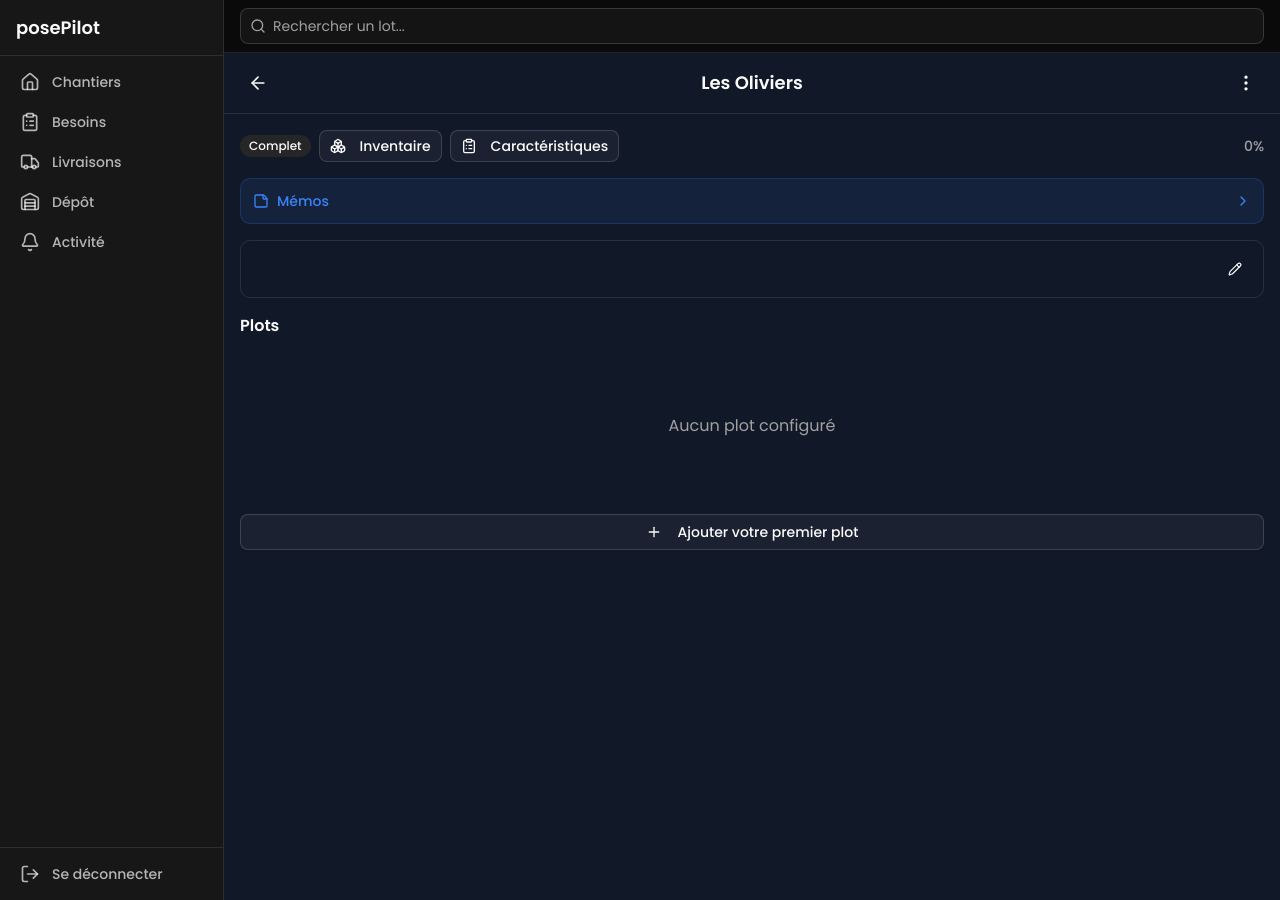
it: ChantierIndexPage — Sheet creation › shows validation error when submitting empty name
Expected: the text "Aucun plot configuré" is shown, [668,414,835,438]
Click the button "Ajouter votre premier plot": (752, 532) [240,514,1264,550]
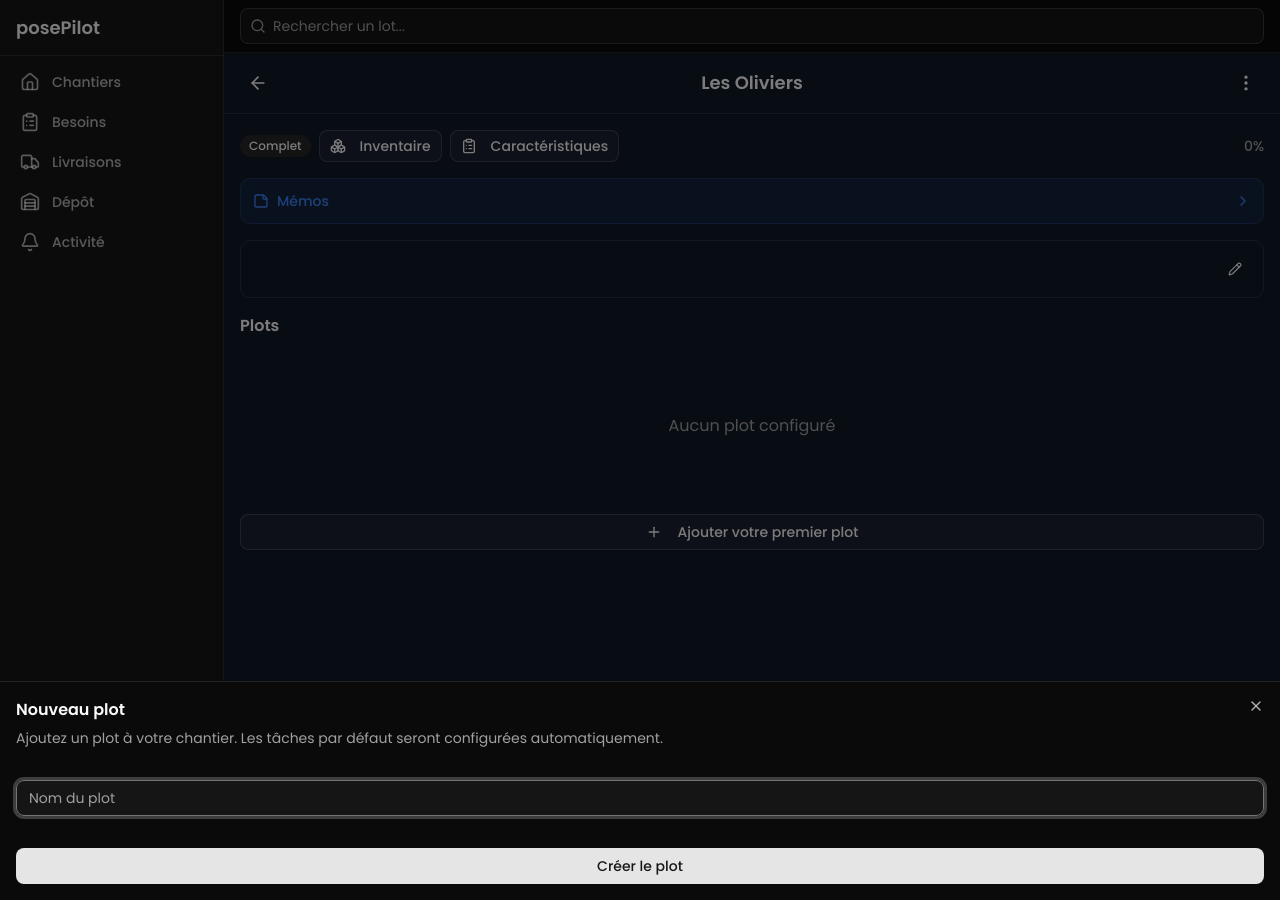
Expected: the heading "Nouveau plot" is shown, [16,698,125,721]
Click the button "Créer le plot": (640, 866) [16,848,1264,884]
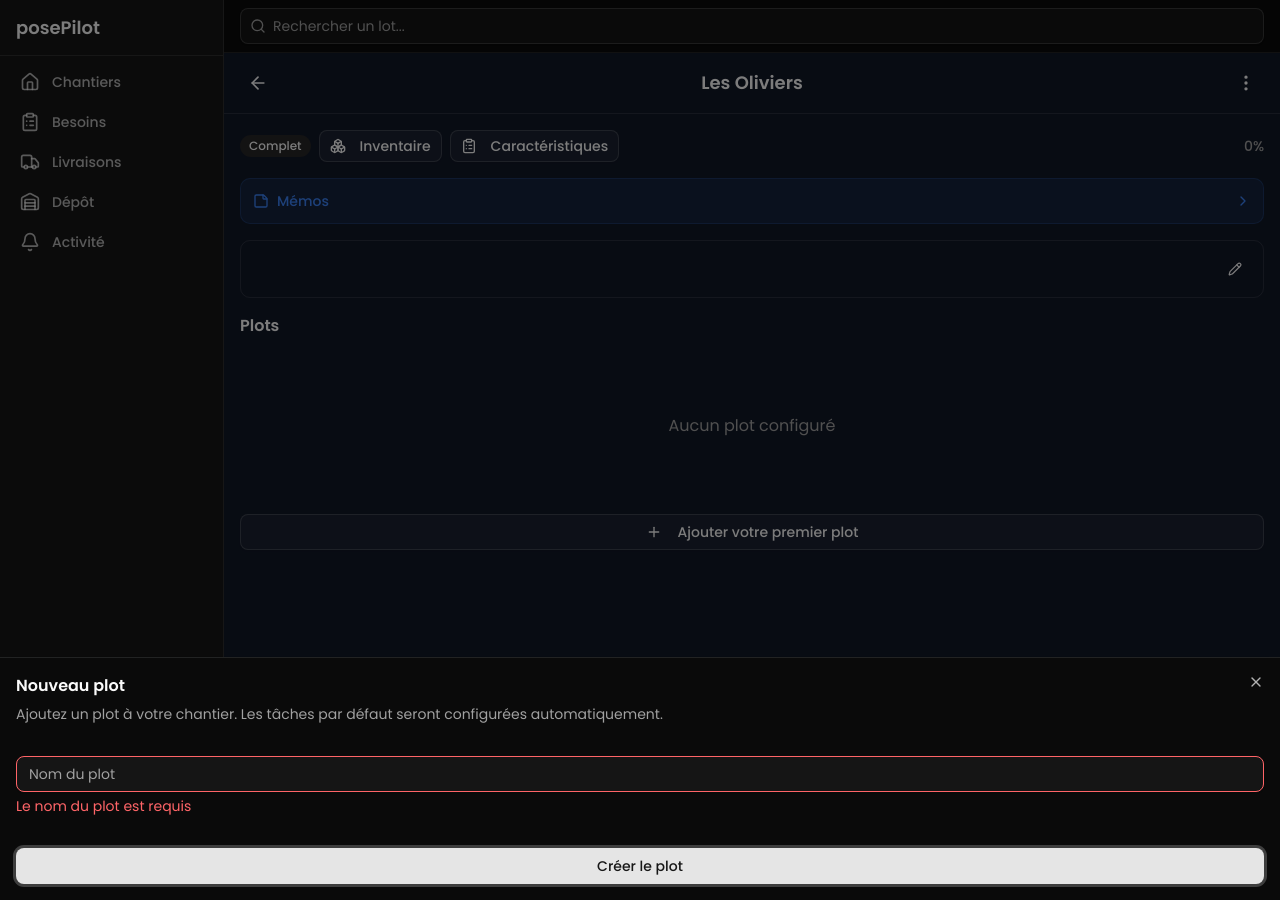
Expected: the text "Le nom du plot est requis" is shown, [16,796,191,816]
